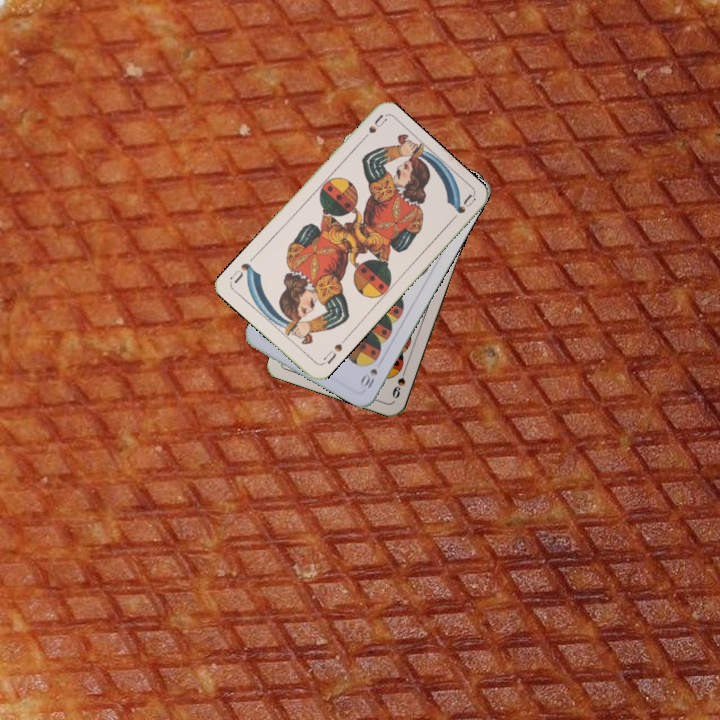S10: (358, 364, 380, 391)
S9: (388, 363, 410, 401)
SU: (355, 111, 389, 146), (318, 334, 349, 367)
